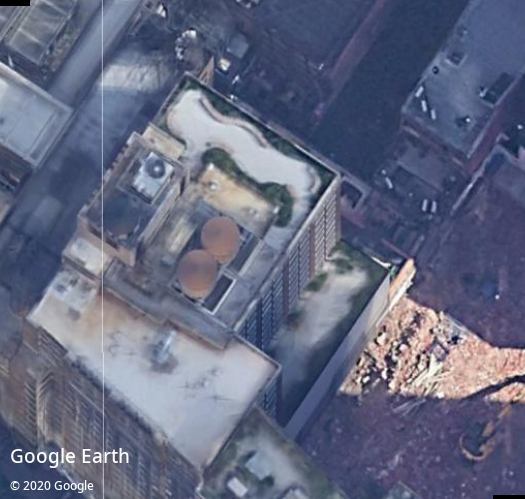Vent: (148, 160, 166, 179)
